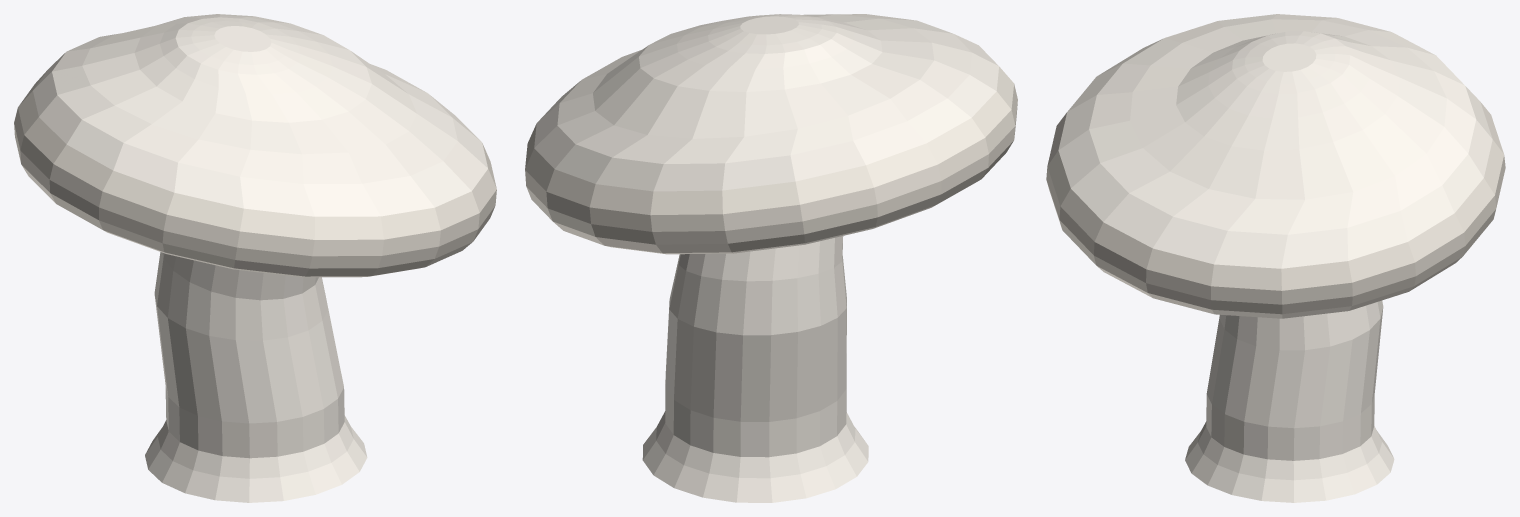
File: Mushroom_Medium_01.fbx
3 views of the same model, side by side, from view 1: azimuth 30°, elevation 25°; view 2: azimuth 150°, elevation 25°; view 3: azimuth 270°, elevation 25° (orthographic). The views are drawn at different scales.
Visible parts, largest first — view 1: medium_sized_mshrm_01; view 2: medium_sized_mshrm_01; view 3: medium_sized_mshrm_01.
Part boxes in pixels (<box>): medium_sized_mshrm_01: <box>14,14,496,502</box>; medium_sized_mshrm_01: <box>525,14,1017,502</box>; medium_sized_mshrm_01: <box>1046,14,1505,502</box>.
Size of the model in its own units: 7.58 by 7.38 by 7.66.
1 material, 1 textured.
